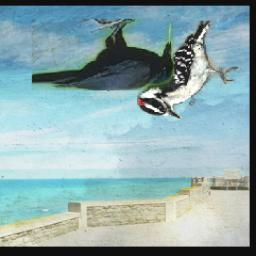Crow: (32, 19, 174, 90)
Woodpecker: (137, 21, 241, 119)
